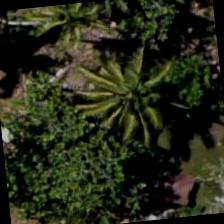Kelapa_Sawit: (77, 47, 176, 146)
